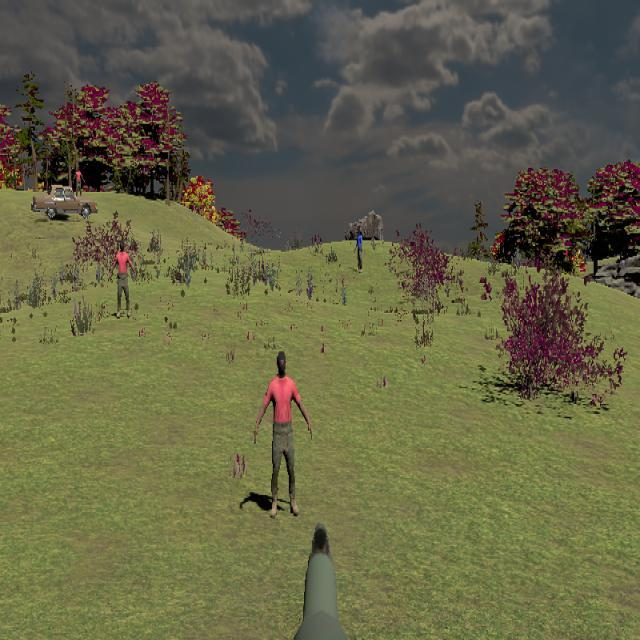Human: (253, 350, 312, 517), (109, 240, 137, 319)
car: (31, 186, 98, 221)
